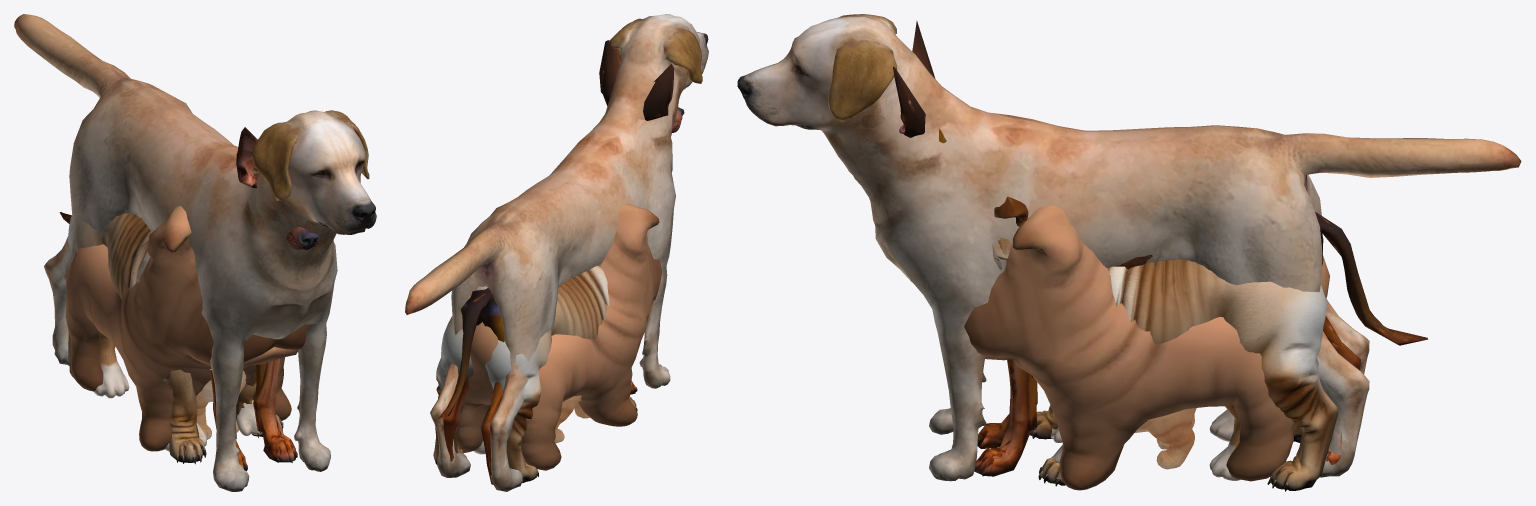
3 renders of one model, left to right at view 1: azimuth 30°, elevation 25°; view 2: azimuth 150°, elevation 25°; view 3: azimuth 270°, elevation 25°, orthographic. The views are drawn at different scales.
Parts seen in each view (by area): view 1: doglab__rig_only.003, body_low, pet_sharpei, pet_pharaoh, pet_bulldogpup, 56fa522a-d301-4d10-811b-1797ef8c999e; view 2: doglab__rig_only.003, body_low, pet_sharpei, pet_pharaoh, 56fa522a-d301-4d10-811b-1797ef8c999e; view 3: doglab__rig_only.003, body_low, pet_sharpei, pet_pharaoh, 56fa522a-d301-4d10-811b-1797ef8c999e, pet_bulldogpup.
Part boxes in pixels (x1,y1,x2,y2): doglab__rig_only.003: (14,14,376,491); body_low: (65,206,307,451); pet_sharpei: (64,213,283,464); pet_pharaoh: (59,127,319,471); pet_bulldogpup: (94,331,262,451); 56fa522a-d301-4d10-811b-1797ef8c999e: (196,369,246,439); doglab__rig_only.003: (405,14,708,491); body_low: (457,203,661,470); pet_sharpei: (433,265,637,482); pet_pharaoh: (438,40,684,484); 56fa522a-d301-4d10-811b-1797ef8c999e: (554,395,589,443); doglab__rig_only.003: (737,14,1521,481); body_low: (964,205,1329,490); pet_sharpei: (992,196,1338,491); pet_pharaoh: (893,20,1427,476); 56fa522a-d301-4d10-811b-1797ef8c999e: (1134,408,1196,469); pet_bulldogpup: (1050,404,1240,480).
Bounding box in the file's own units: 0.3272 × 0.78 × 1.28.
8 materials, 8 textured.
